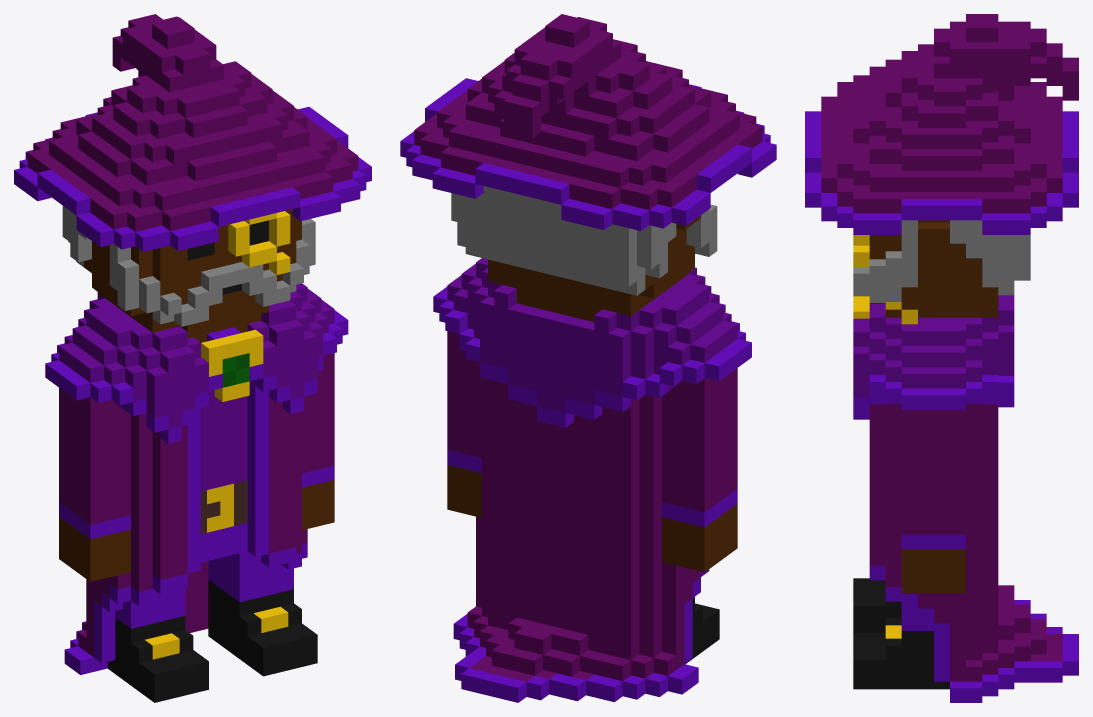
The model's file is wizard.fbx.
The picture shows the model from 3 angles, left to right: view 1: azimuth 30°, elevation 25°; view 2: azimuth 150°, elevation 25°; view 3: azimuth 270°, elevation 25°; orthographic projection. The views are drawn at different scales.
Visible parts, largest first — view 1: wizard_complete-9, wizard_complete-8, wizard_complete-6, wizard_complete-0, wizard_complete-2, wizard_complete-7, wizard_complete-4, wizard_complete-1, wizard_complete-3, wizard_complete-5; view 2: wizard_complete-8, wizard_complete-9, wizard_complete-6, wizard_complete-7, wizard_complete-4, wizard_complete-5, wizard_complete-2; view 3: wizard_complete-9, wizard_complete-8, wizard_complete-4, wizard_complete-0, wizard_complete-5, wizard_complete-2, wizard_complete-1.
Part boxes in pixels (bbox=[...]): wizard_complete-9: bbox=[14, 14, 371, 338]; wizard_complete-8: bbox=[45, 283, 348, 674]; wizard_complete-6: bbox=[59, 445, 130, 581]; wizard_complete-0: bbox=[208, 579, 317, 676]; wizard_complete-2: bbox=[107, 616, 208, 702]; wizard_complete-7: bbox=[59, 388, 130, 468]; wizard_complete-4: bbox=[302, 409, 334, 530]; wizard_complete-1: bbox=[208, 551, 293, 602]; wizard_complete-3: bbox=[115, 588, 185, 628]; wizard_complete-5: bbox=[302, 353, 334, 416]; wizard_complete-8: bbox=[433, 258, 751, 702]; wizard_complete-9: bbox=[400, 14, 776, 321]; wizard_complete-6: bbox=[662, 429, 737, 572]; wizard_complete-7: bbox=[662, 368, 737, 452]; wizard_complete-4: bbox=[447, 390, 481, 517]; wizard_complete-5: bbox=[447, 331, 481, 398]; wizard_complete-2: bbox=[685, 598, 719, 664]; wizard_complete-9: bbox=[805, 14, 1078, 324]; wizard_complete-8: bbox=[853, 295, 1078, 702]; wizard_complete-4: bbox=[901, 476, 965, 592]; wizard_complete-0: bbox=[853, 618, 949, 689]; wizard_complete-5: bbox=[901, 410, 965, 476]; wizard_complete-2: bbox=[853, 578, 901, 632]; wizard_complete-1: bbox=[901, 608, 933, 630].
Bounding box in the file's own units: 200 × 430 × 170.
